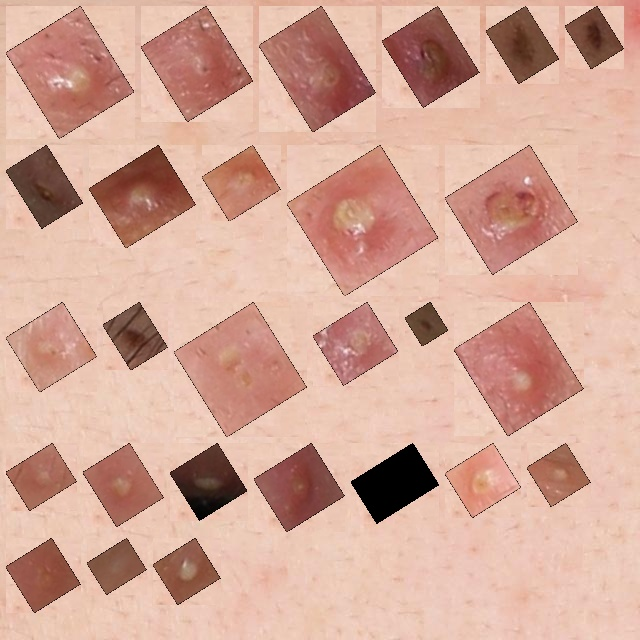hypertrophic_scar: (98, 549, 135, 583)
nevus: (362, 454, 428, 512), (497, 17, 548, 72), (114, 313, 157, 359), (576, 17, 613, 58), (416, 313, 437, 335)
pustule: (298, 156, 427, 285), (185, 313, 296, 426), (465, 313, 573, 425), (456, 156, 566, 263), (17, 17, 123, 127), (270, 17, 365, 121), (152, 17, 242, 110), (100, 156, 185, 237), (393, 17, 468, 96), (17, 313, 86, 381), (265, 454, 333, 521), (324, 313, 387, 374), (94, 454, 153, 515), (17, 156, 72, 217), (181, 454, 236, 509), (213, 156, 269, 210), (456, 454, 510, 506), (17, 549, 69, 601), (17, 454, 65, 499), (164, 549, 209, 593), (538, 454, 579, 495)
